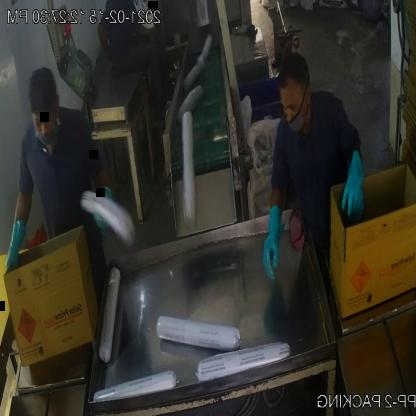glove: (261, 188, 291, 284), (0, 204, 32, 292), (339, 144, 373, 224)
no_glove: (127, 20, 160, 52), (96, 22, 116, 65)
